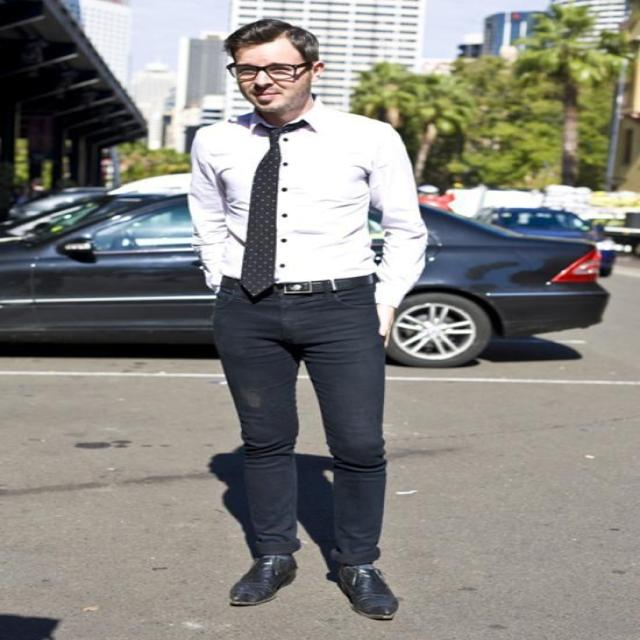pants: (211, 276, 388, 566)
shirt: (188, 93, 428, 308)
